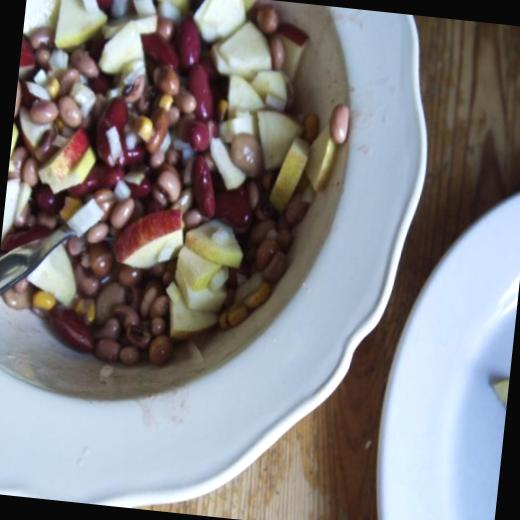Apple: (0, 0, 349, 347), (110, 202, 186, 272)
